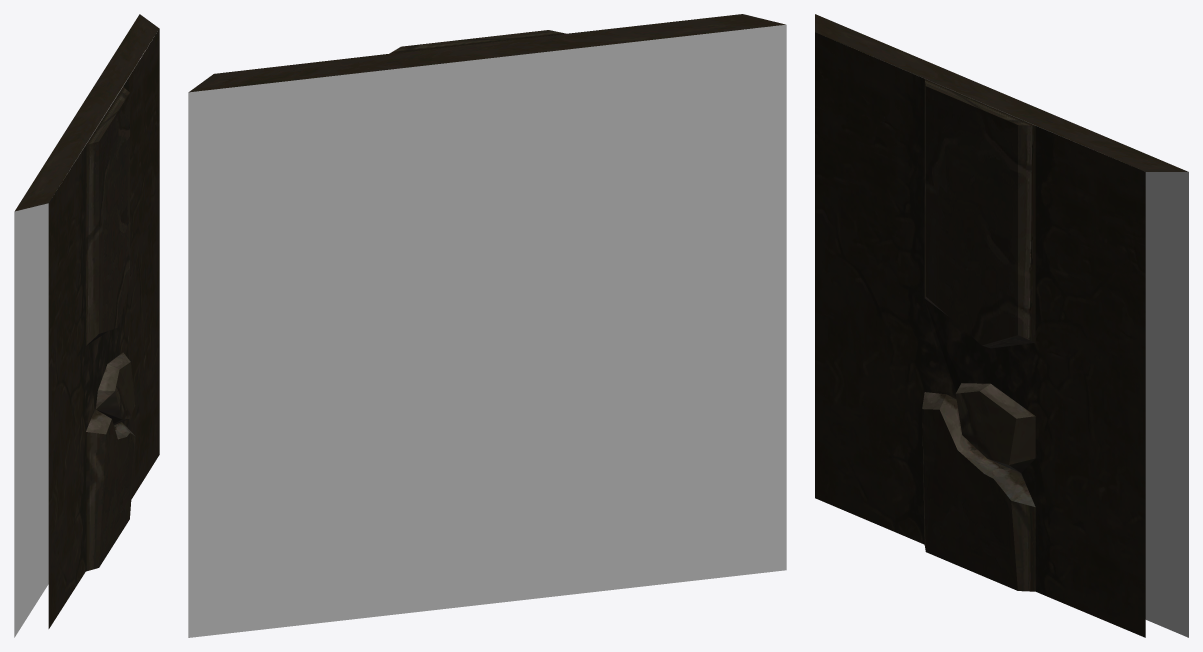
The model's file is fortress_wall_diagonal_02_e.fbx.
3 renders of one model, left to right at view 1: azimuth 30°, elevation 25°; view 2: azimuth 150°, elevation 25°; view 3: azimuth 270°, elevation 25°, orthographic. The views are drawn at different scales.
Visible parts, largest first — view 1: fortress_wall_diagonal_02_e-0; view 2: fortress_wall_diagonal_02_e-0; view 3: fortress_wall_diagonal_02_e-0.
Part boxes in pixels (bbox=[...]): fortress_wall_diagonal_02_e-0: bbox=[14, 14, 159, 637]; fortress_wall_diagonal_02_e-0: bbox=[188, 14, 786, 637]; fortress_wall_diagonal_02_e-0: bbox=[815, 14, 1188, 637].
Bounding box in the file's own units: 4 × 5.5 × 4.
